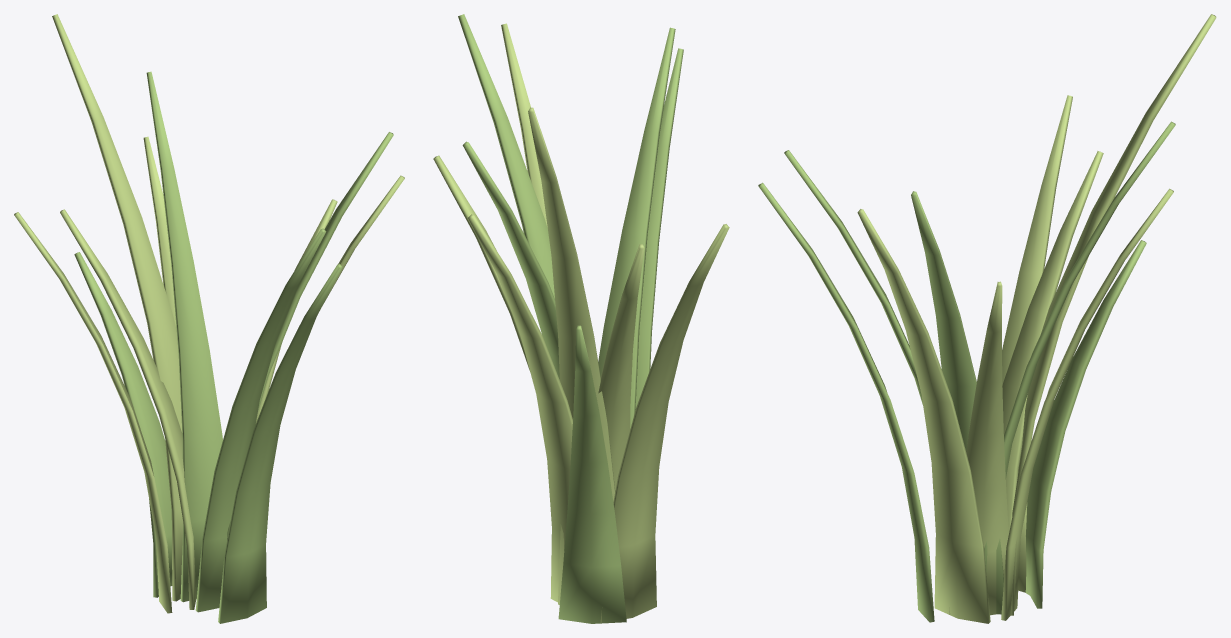
File: Grass.gltf
The picture shows the model from 3 angles, left to right: view 1: azimuth 30°, elevation 25°; view 2: azimuth 150°, elevation 25°; view 3: azimuth 270°, elevation 25°; orthographic projection. The views are drawn at different scales.
Visible parts, largest first — view 1: Grass; view 2: Grass; view 3: Grass.
Boxes of the visible parts, x1,y1,x2,y2 form: Grass: (14, 14, 404, 623); Grass: (433, 14, 729, 623); Grass: (758, 14, 1216, 623).
Size of the model in its own units: 0.4493 by 0.7229 by 0.5308.
